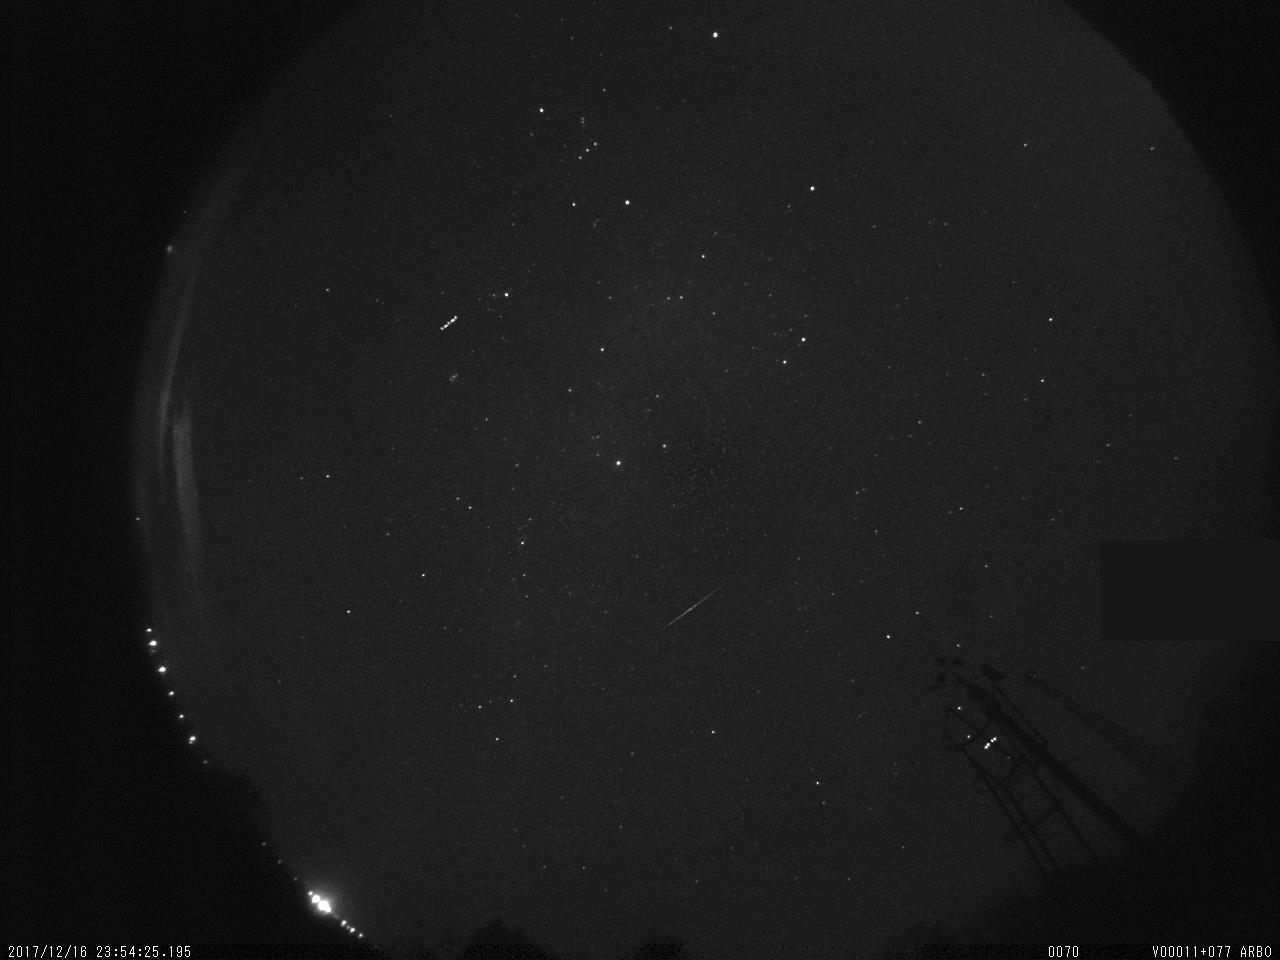meteor: (663, 579, 733, 633)
satelite: (435, 309, 461, 338)
